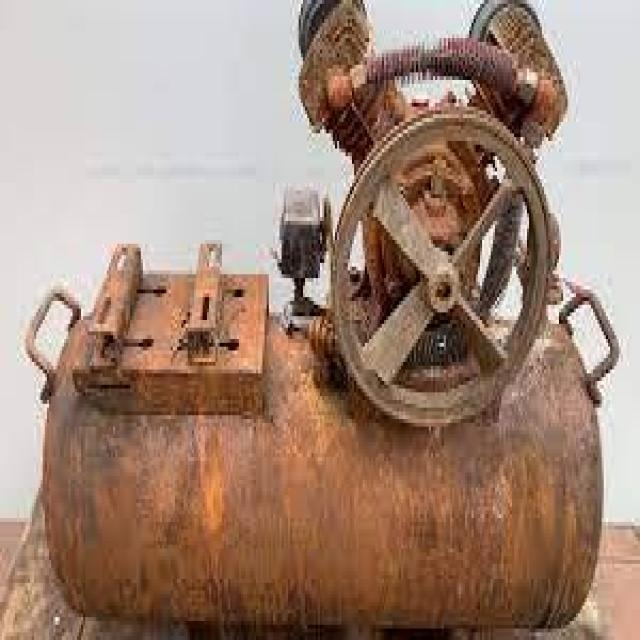compressor: (21, 0, 618, 632)
corrosion detected: (49, 386, 601, 622), (354, 122, 504, 385), (169, 236, 243, 370), (88, 236, 145, 358)
